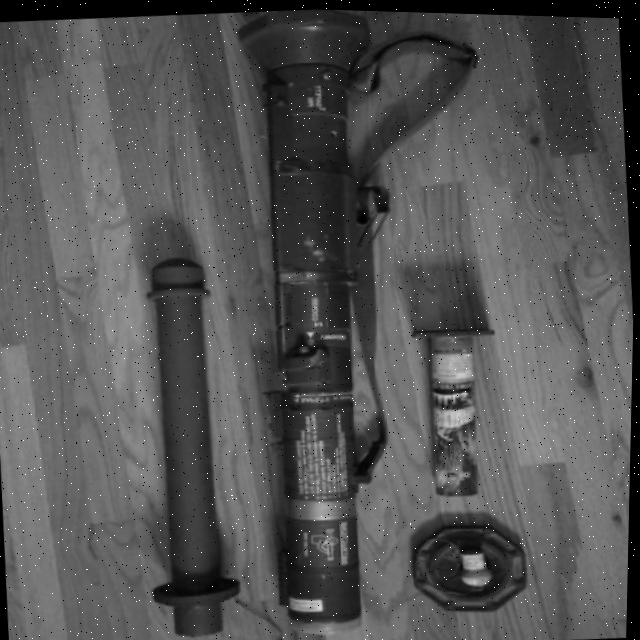rocket: (199, 5, 566, 640)
